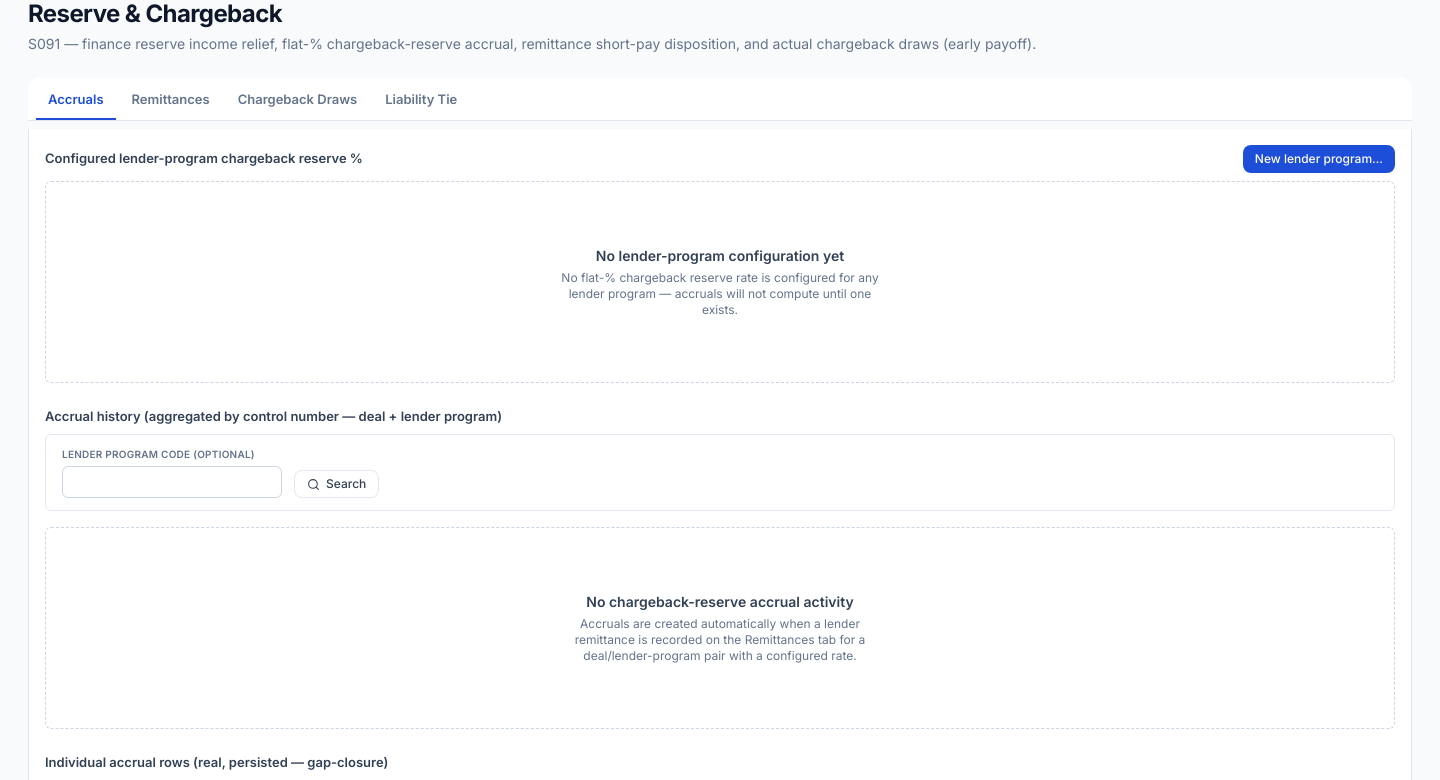
Test: ReserveChargeback — Chargeback Draws tab (real preview + persisted history) › shows the empty state when no chargeback draws have been recorded
This screenshot has width=1440, height=780.
Step 1. Click the button with test id "reserve-tab-draws" → (297, 101), box [226,82,369,120]
(page scrolled)
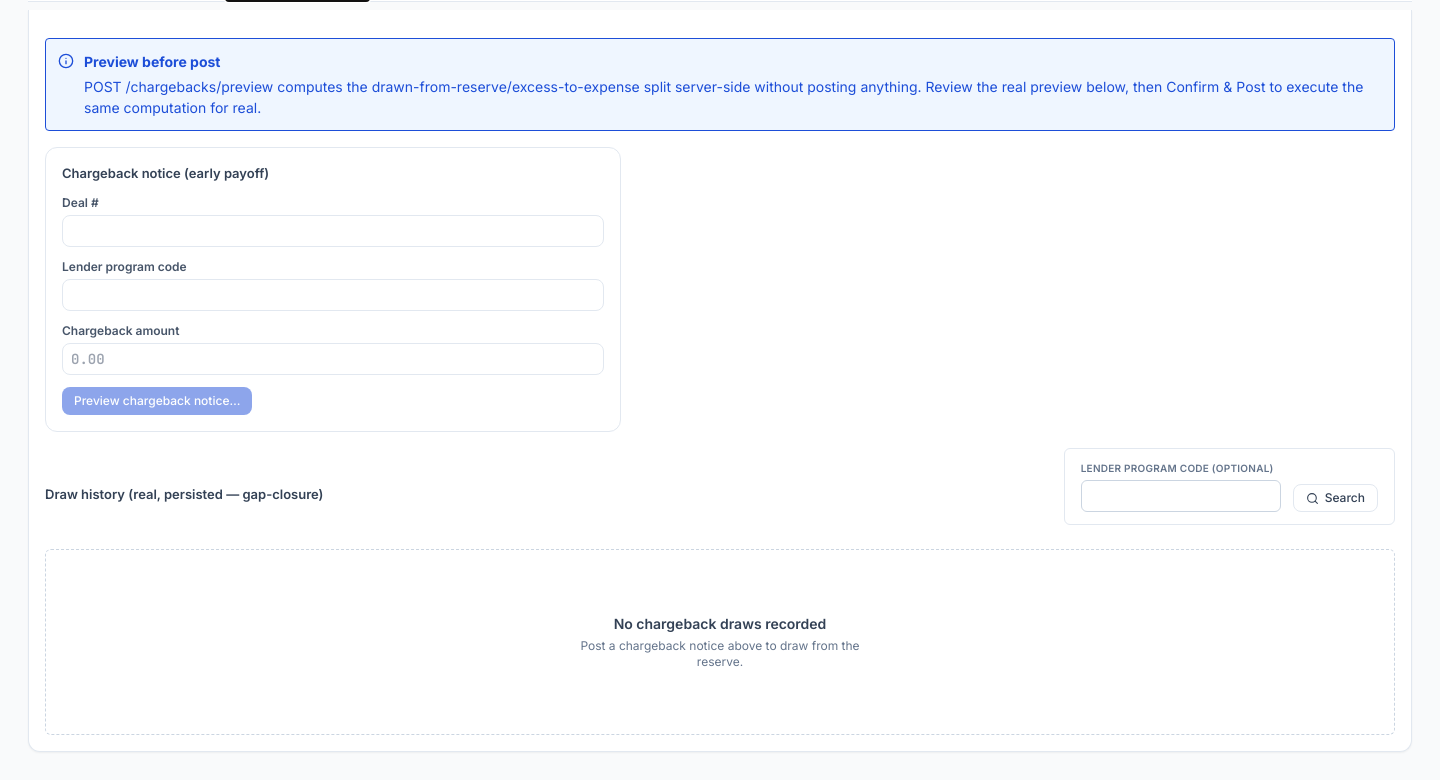
Result: the element with test id "chargeback-draws-empty" is shown at [45,549,1395,735]
